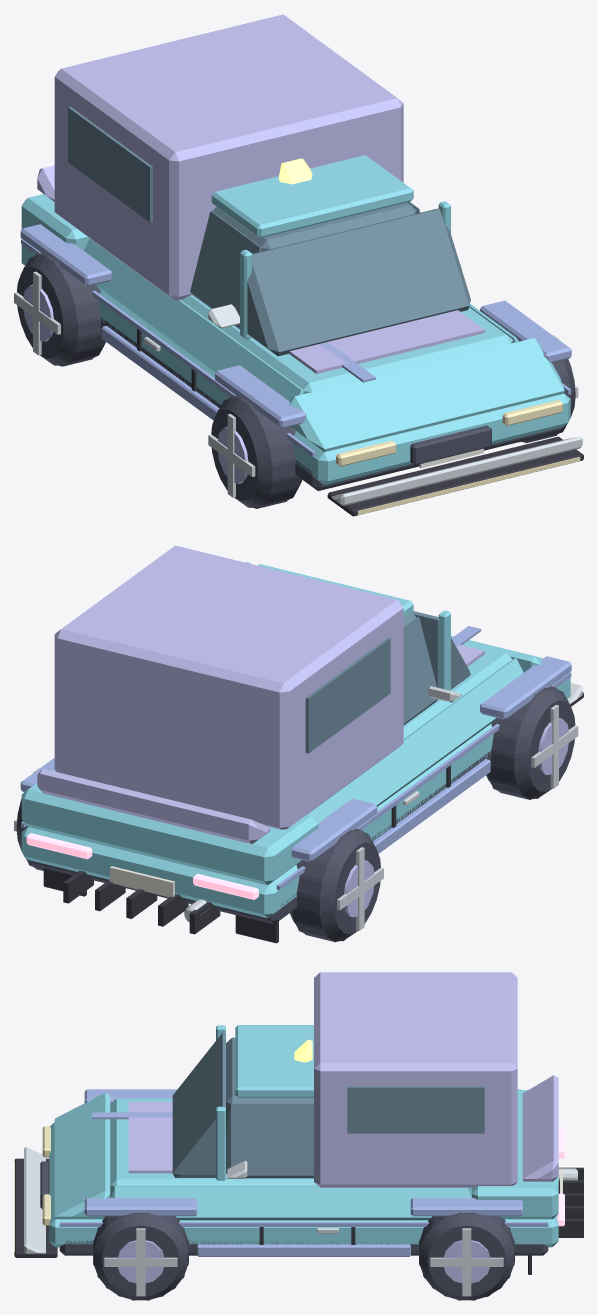
File: parkway_wagon.fbx
3 renders of one model, top to bottom at view 1: azimuth 30°, elevation 25°; view 2: azimuth 150°, elevation 25°; view 3: azimuth 270°, elevation 25°, orthographic. The views are drawn at different scales.
Visible parts, largest first — view 1: Accent2, Body, Glass, Accent, Wheel_FR, Wheel_RR, Accent3, Trim, Trim2, Light, Metal, Metal2 (+2 smaller); view 2: Accent2, Body, Glass, Accent, Wheel_RR, Wheel_FR, Trim, Metal, Light2, Trim2, Metal2, Accent4 (+1 smaller); view 3: Accent2, Body, Glass, Accent, Wheel_RL, Wheel_FL, Metal, Trim, Accent3, Metal2, Trim2, Light (+1 smaller).
Part boxes in pixels (x1,y1,x2,y2): Accent2: (37, 14, 484, 373); Body: (21, 155, 570, 484); Glass: (68, 106, 470, 356); Accent: (20, 224, 571, 456); Wheel_FR: (211, 395, 302, 508); Wheel_RR: (17, 253, 105, 366); Accent3: (208, 264, 582, 506); Trim: (137, 329, 583, 516); Trim2: (101, 317, 563, 490); Light: (336, 400, 580, 514); Metal: (14, 271, 578, 497); Metal2: (23, 284, 248, 483); Accent2: (37, 545, 484, 844); Body: (21, 562, 570, 918); Glass: (305, 611, 470, 753); Accent: (20, 626, 571, 890); Wheel_RR: (290, 828, 380, 942); Wheel_FR: (486, 686, 575, 799); Trim: (43, 692, 583, 943); Metal: (14, 705, 578, 930); Light2: (26, 833, 258, 899); Trim2: (28, 751, 491, 924); Metal2: (344, 718, 568, 917); Accent4: (110, 866, 174, 897); Accent2: (128, 972, 558, 1187); Body: (49, 1025, 558, 1247); Glass: (172, 1032, 484, 1178); Accent: (59, 1089, 548, 1256); Wheel_RL: (419, 1212, 514, 1300); Wheel_FL: (93, 1212, 188, 1300); Metal: (104, 1168, 577, 1296); Trim: (14, 1158, 583, 1274); Accent3: (24, 1147, 247, 1253); Metal2: (117, 1240, 489, 1283); Trim2: (40, 1161, 548, 1255); Light: (14, 1126, 50, 1255).
Bounding box in the file's own units: 3.1 × 2.41 × 5.6.
